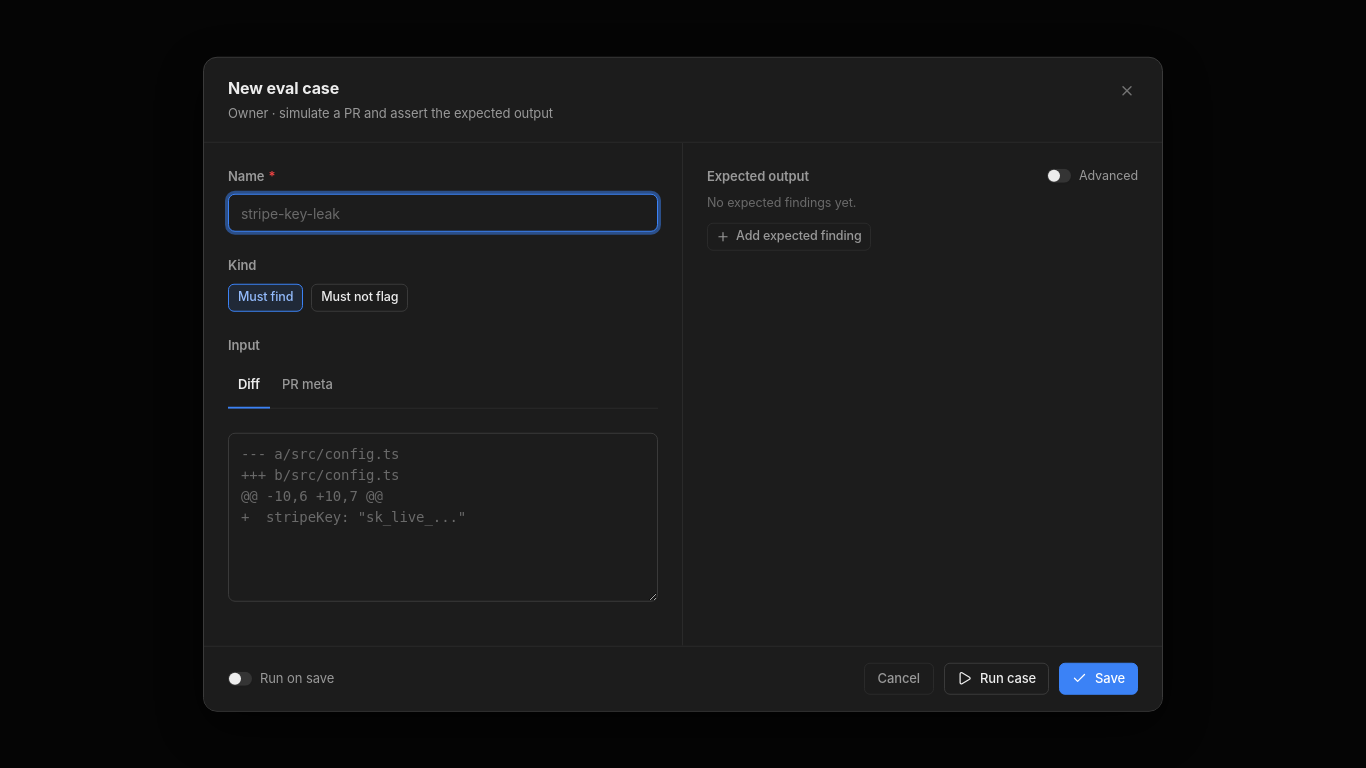
Case Editor: Advanced JSON mode and saving › C-45: toggling Advanced shows the raw JSON editor with its valid badge, reflecting the structured entries
Click the button "Add expected finding". click: click(789, 236)
box: 707,222 -> 870,250
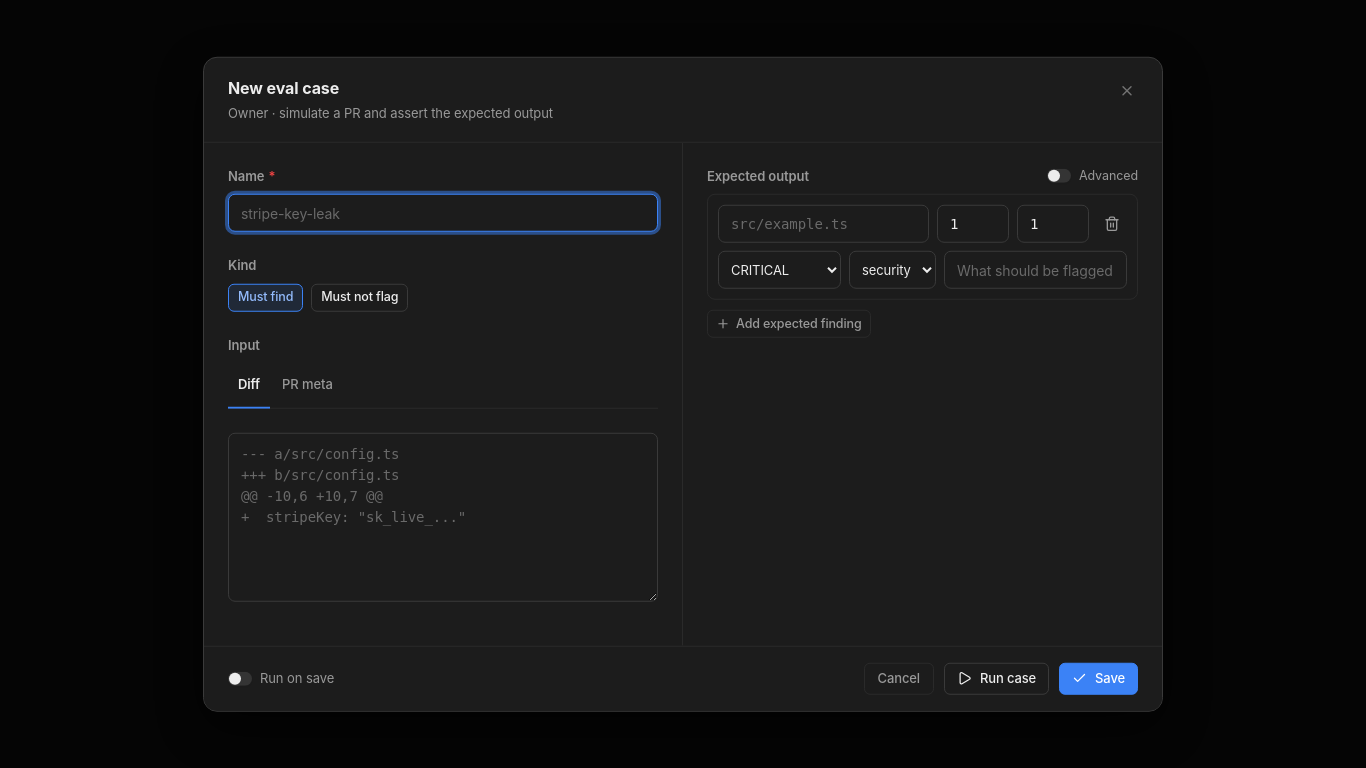
Type "src/config.ts" into the field named "File". click: (824, 224)
box: 718,205 -> 929,243
Replace the text in the field named "Start line" with "11". click: (973, 224)
box: 937,205 -> 1009,243
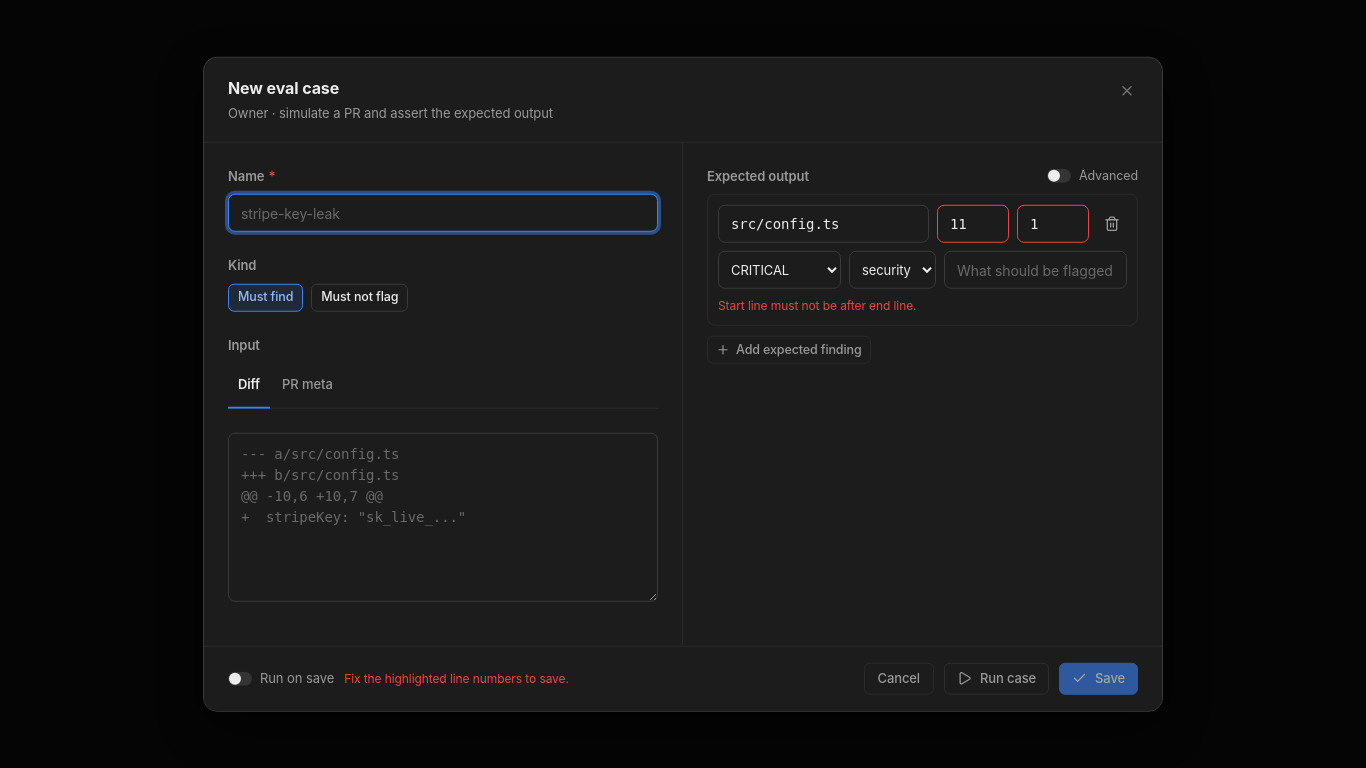
Replace the text in the field named "End line" with "12". click: (1053, 224)
box: 1017,205 -> 1089,243
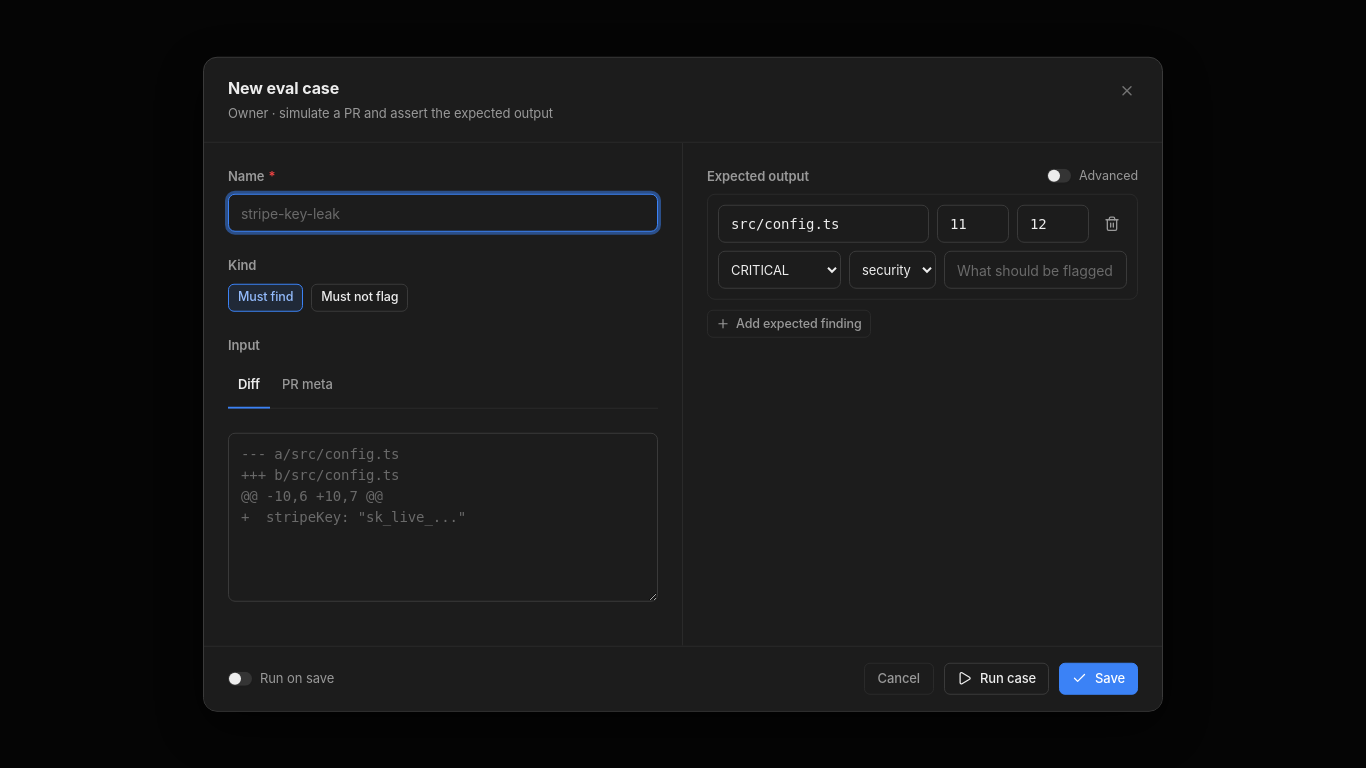
Select "WARNING" in the dropdown named "Severity". click: (780, 270)
box: 718,251 -> 841,289
Select "bug" in the dropdown named "Category". click: (892, 270)
box: 849,251 -> 936,289
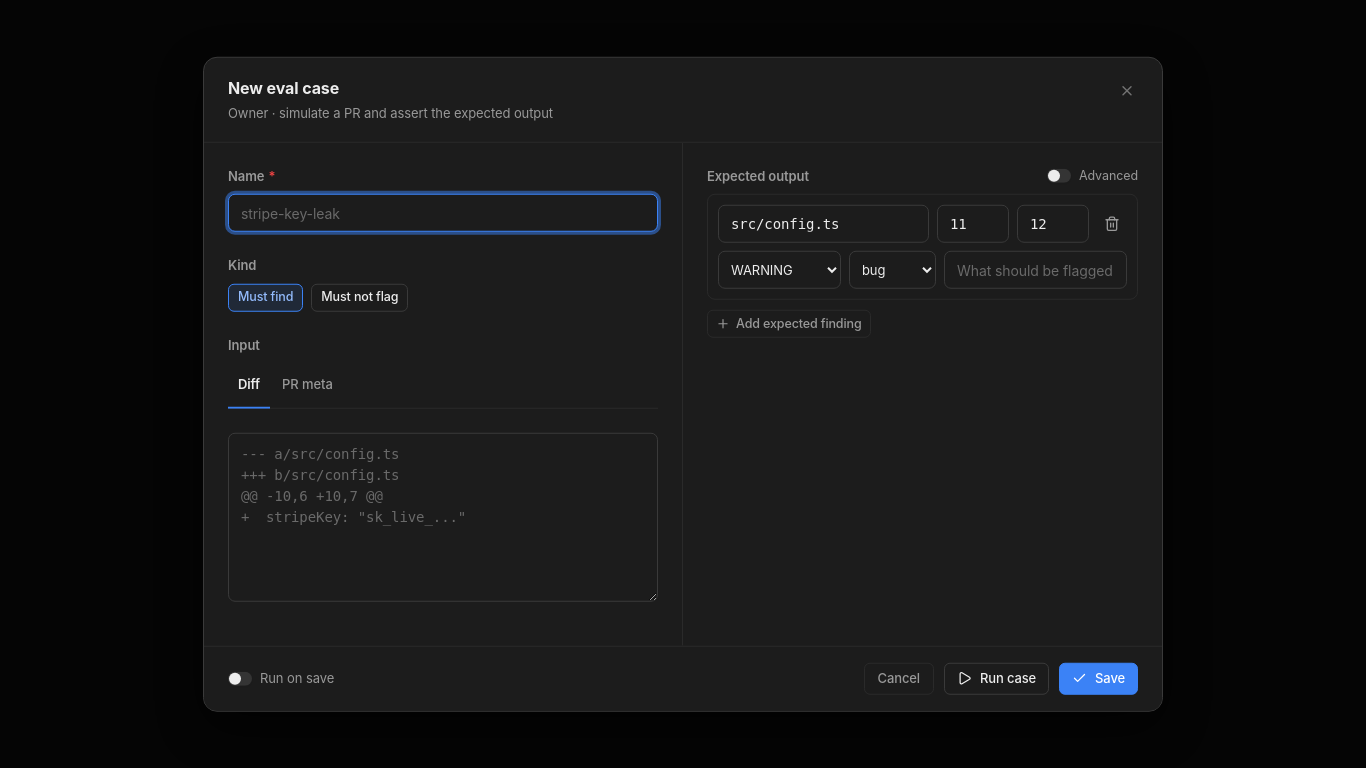
Type "Hardcoded key" into the field named "Finding title". click: (1036, 270)
box: 944,251 -> 1127,289
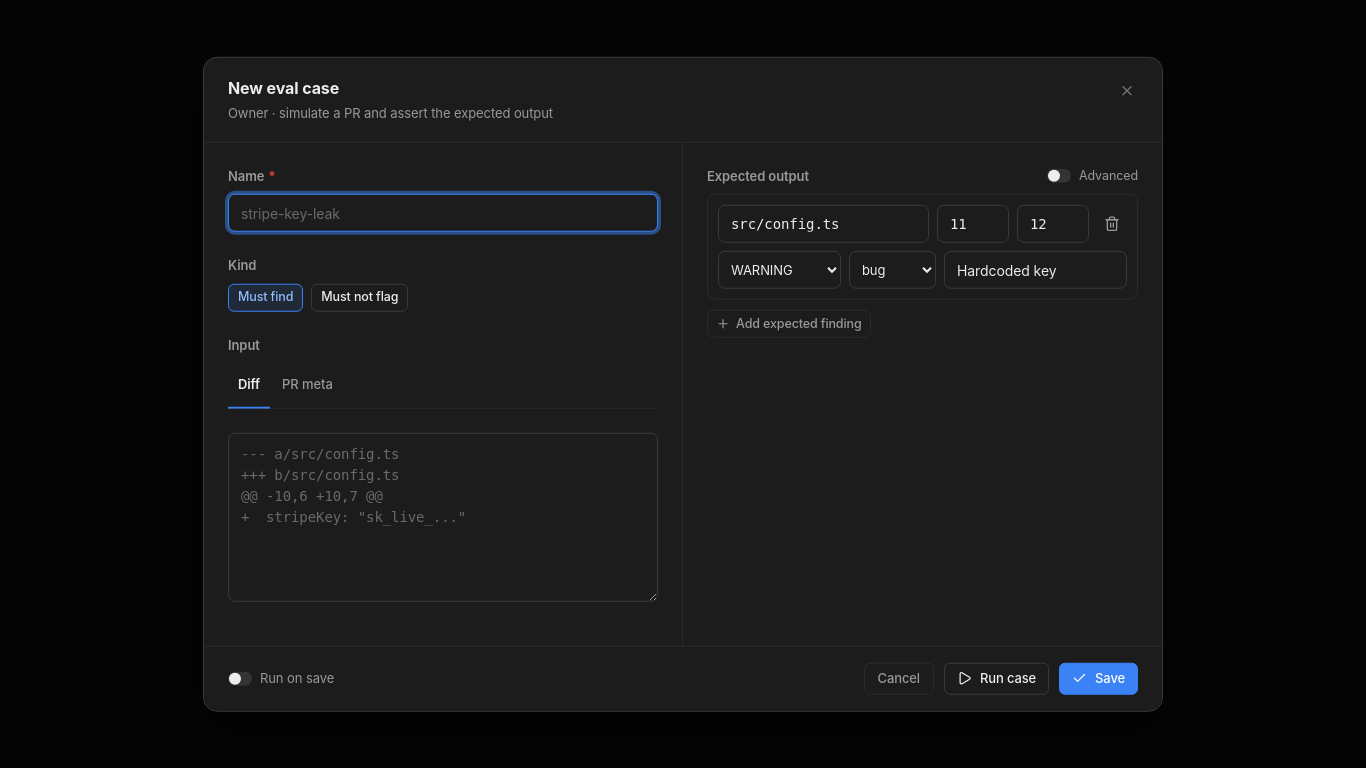
Click the switch named "Advanced" next to "Advanced". click: click(1059, 176)
box: 1047,169 -> 1071,183
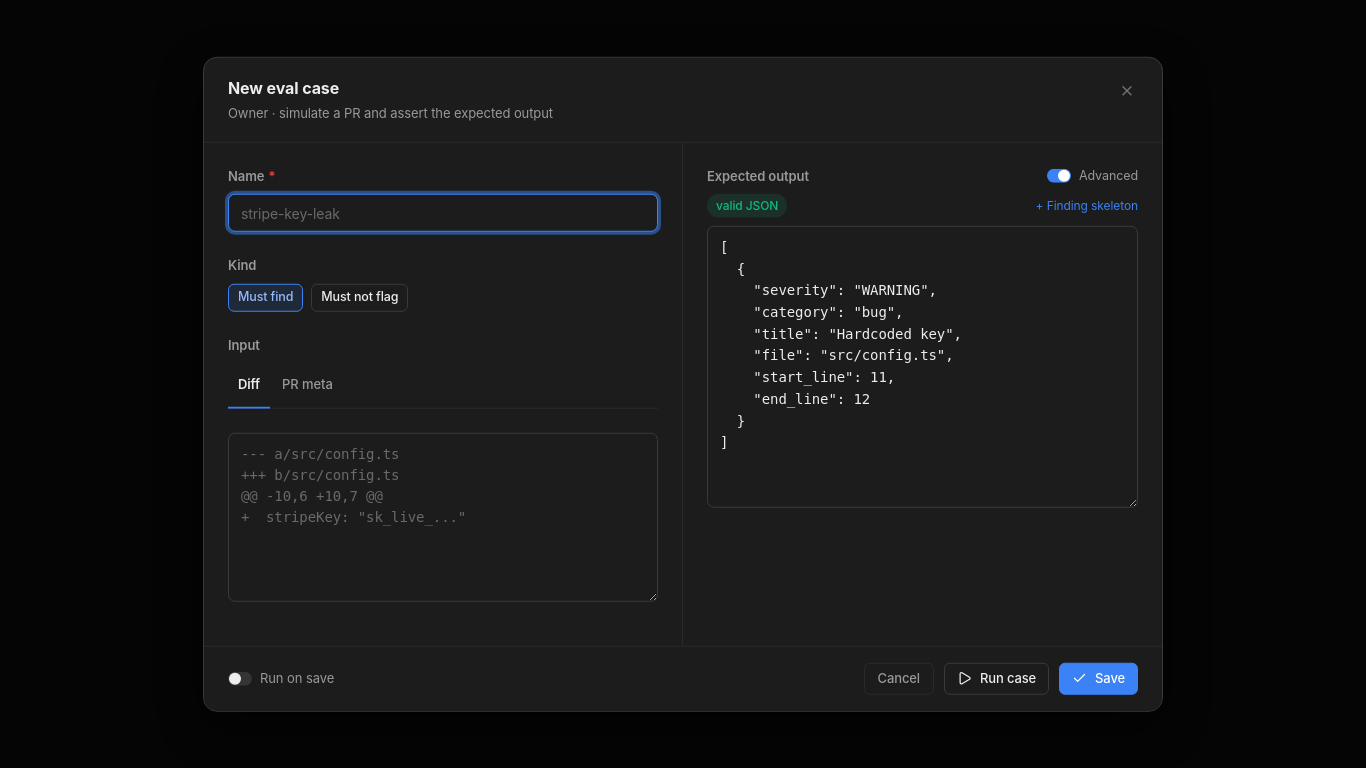
Expected: the text "valid JSON" is shown, 707,194 -> 787,218
